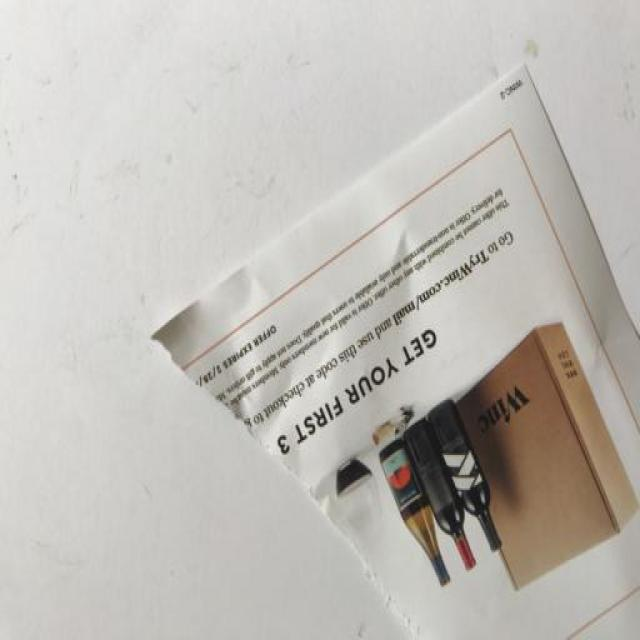paper: (109, 47, 640, 635)
